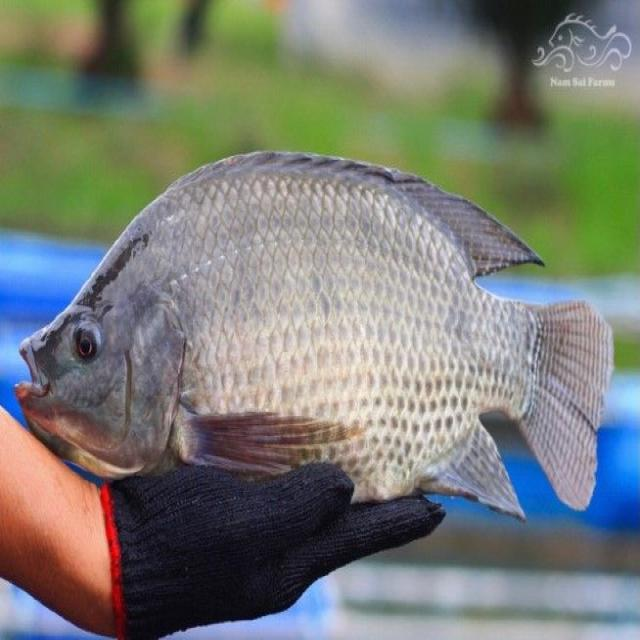ikan: (12, 147, 614, 524)
